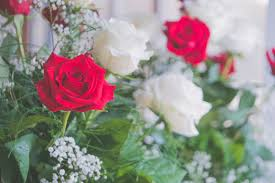rose: (27, 13, 220, 137)
